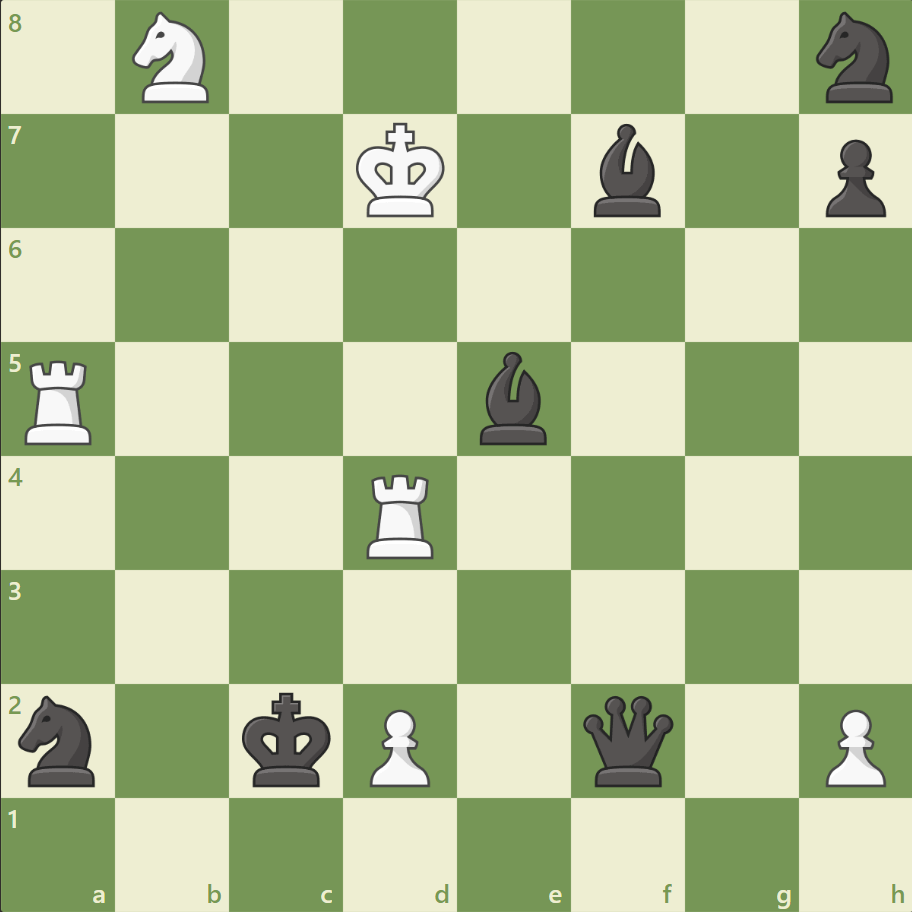K: (351, 117, 451, 225)
N: (124, 7, 222, 110)
P: (361, 700, 435, 791), (815, 700, 889, 791)
R: (19, 352, 102, 449), (360, 466, 442, 563)
b: (585, 120, 669, 222), (471, 347, 555, 449)
k: (238, 685, 338, 793)
n: (806, 7, 903, 110), (11, 688, 108, 791)
p: (815, 132, 889, 223)
q: (578, 690, 677, 789)
